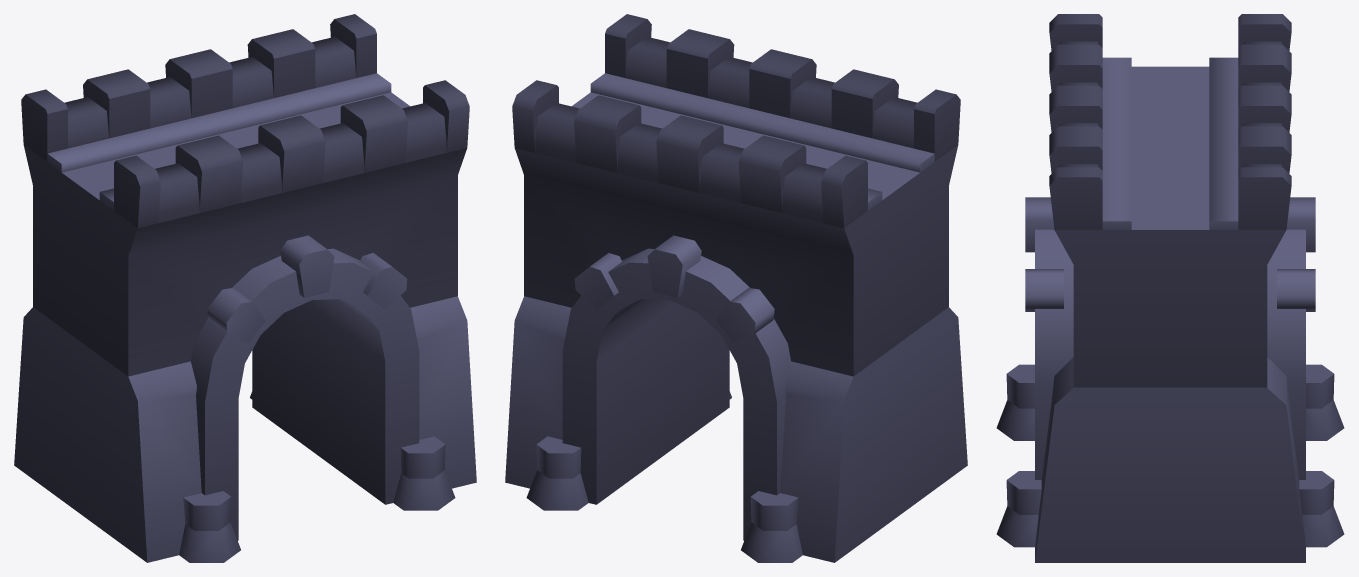
Rendered from castle-gate.fbx.
The picture shows the model from 3 angles, left to right: view 1: azimuth 30°, elevation 25°; view 2: azimuth 150°, elevation 25°; view 3: azimuth 270°, elevation 25°; orthographic projection.
Parts seen in each view (by area): view 1: castle-gate; view 2: castle-gate; view 3: castle-gate.
Boxes of the visible parts, x1,y1,x2,y2 form: castle-gate: [14, 14, 476, 562]; castle-gate: [505, 14, 967, 562]; castle-gate: [996, 14, 1344, 562].
Bounding box in the file's own units: 400 × 440 × 360.
